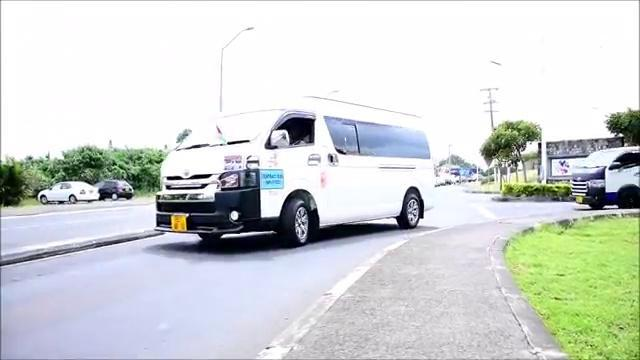van: (156, 90, 435, 249)
